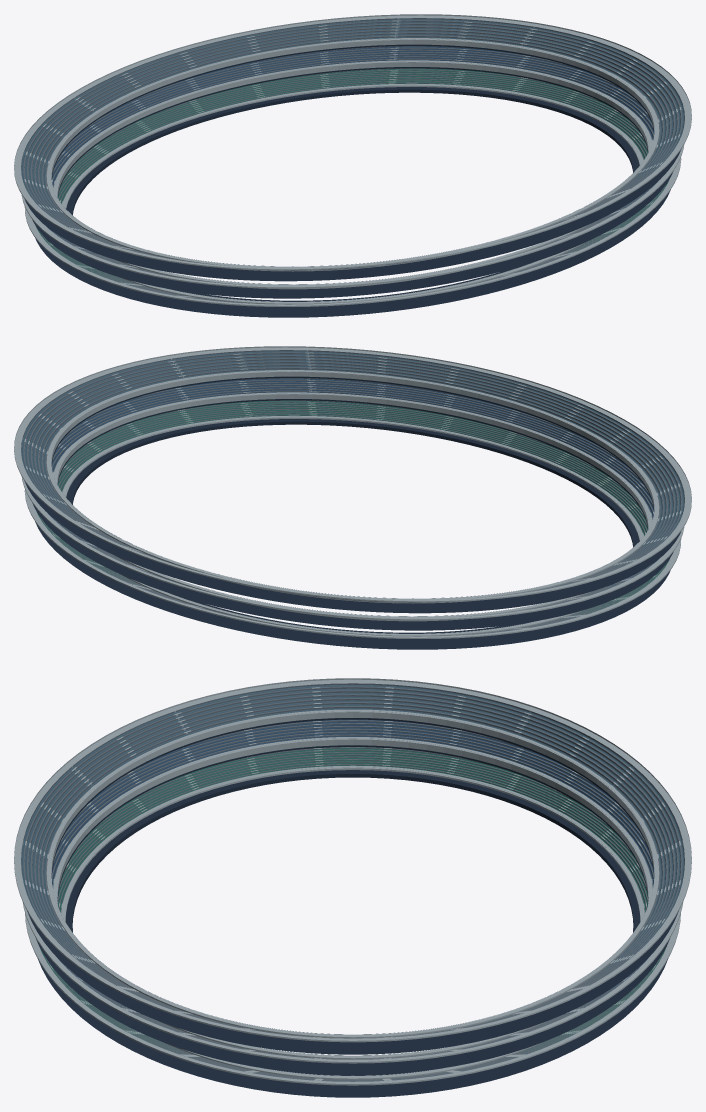
The model's file is broadcast-dome.glb.
3 views of the same model, one above another, from view 1: azimuth 30°, elevation 25°; view 2: azimuth 150°, elevation 25°; view 3: azimuth 270°, elevation 25° (orthographic). The views are drawn at different scales.
Visible parts, largest first — view 1: Balcony edge, Terrace concrete, Concourse shade, Upper slate blue, Lower deep green, Middle indigo, Brushed guardrails; view 2: Balcony edge, Terrace concrete, Concourse shade, Upper slate blue, Lower deep green, Middle indigo, Brushed guardrails; view 3: Balcony edge, Terrace concrete, Concourse shade, Upper slate blue, Lower deep green, Middle indigo, Brushed guardrails.
Boxes of the visible parts, x1,y1,x2,y2 form: Balcony edge: [14, 14, 691, 306]; Terrace concrete: [21, 18, 684, 303]; Concourse shade: [24, 44, 681, 317]; Upper slate blue: [21, 19, 684, 236]; Lower deep green: [36, 68, 669, 286]; Middle indigo: [47, 46, 657, 254]; Brushed guardrails: [61, 39, 640, 301]; Balcony edge: [14, 346, 691, 638]; Terrace concrete: [21, 350, 684, 635]; Concourse shade: [24, 376, 681, 649]; Upper slate blue: [21, 351, 684, 568]; Lower deep green: [36, 400, 669, 618]; Middle indigo: [48, 378, 658, 586]; Brushed guardrails: [65, 371, 644, 633]; Balcony edge: [14, 678, 691, 1085]; Terrace concrete: [21, 683, 684, 1081]; Concourse shade: [27, 718, 678, 1097]; Upper slate blue: [21, 684, 684, 984]; Lower deep green: [39, 747, 666, 1053]; Middle indigo: [52, 719, 653, 1014]; Brushed guardrails: [60, 711, 645, 1075].
Bounding box in the file's own units: 341 × 30.7 × 269.
